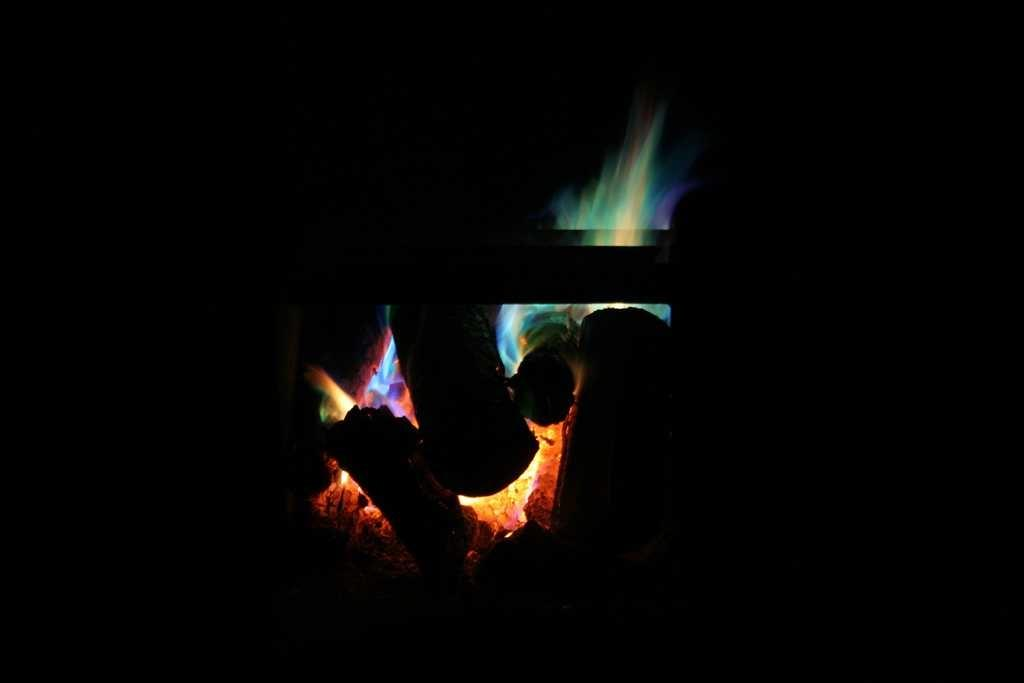fire: (444, 423, 576, 531)
